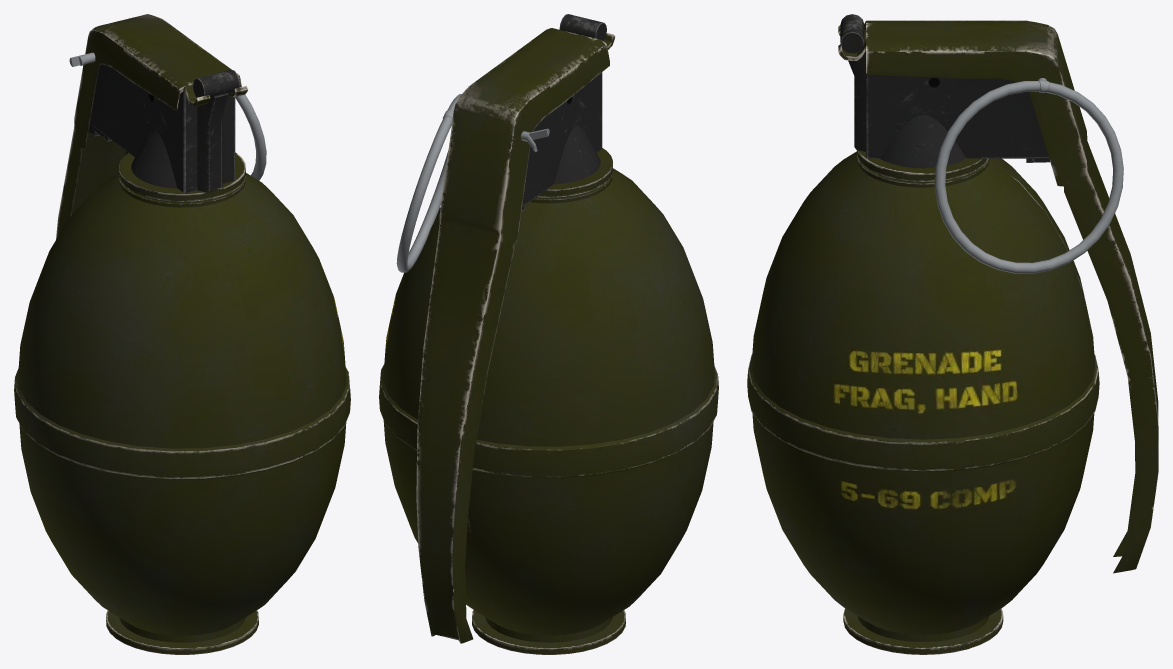
File: fraggrenade.glb
3 renders of one model, left to right at view 1: azimuth 30°, elevation 25°; view 2: azimuth 150°, elevation 25°; view 3: azimuth 270°, elevation 25°, orthographic. The views are drawn at different scales.
Parts seen in each view (by area): view 1: Grenade, Pin; view 2: Grenade, Pin; view 3: Grenade, Pin.
Part boxes in pixels (x1,y1,x2,y2): Grenade: (14,14,350,654); Pin: (69,52,266,180); Grenade: (379,14,718,654); Pin: (396,94,549,272); Grenade: (747,14,1158,654); Pin: (934,78,1123,273).
Size of the model in its own units: 0.0544 by 0.1018 by 0.0635.
Materials: 1 (1 with a texture image).
